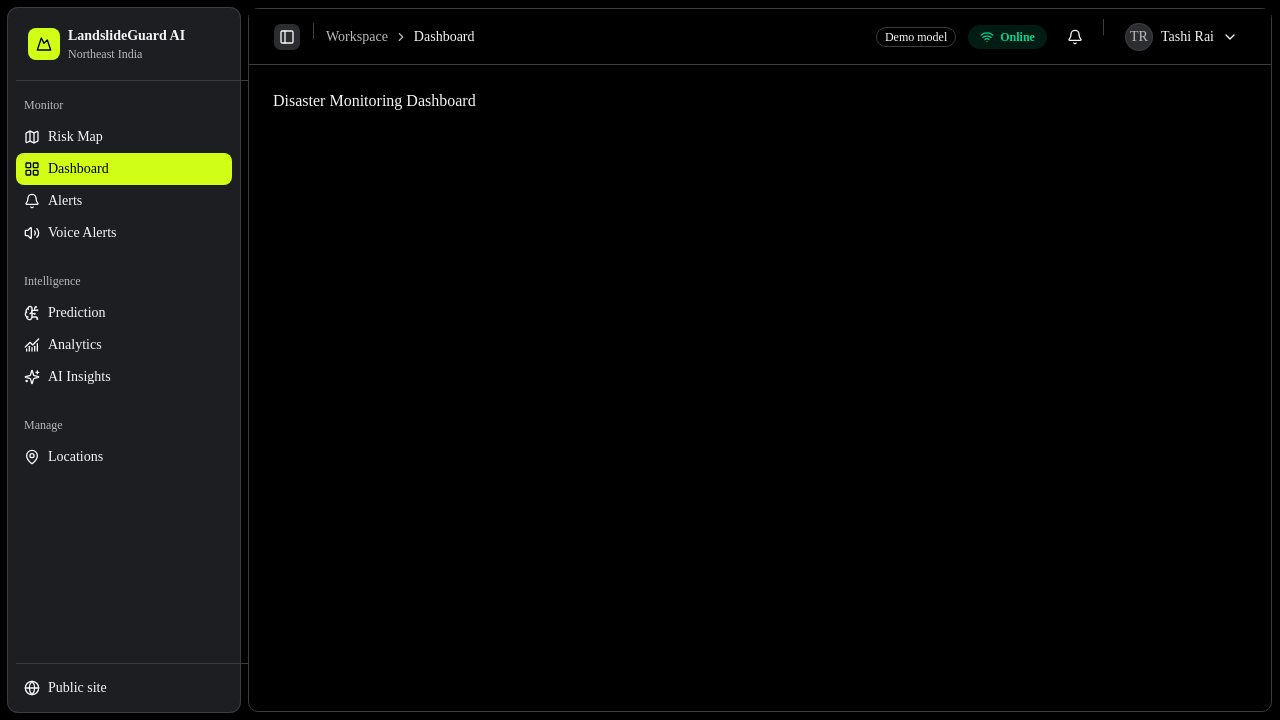
Test case: shared monitoring shell › collapses desktop navigation and keeps viewer permissions and active links
Click the button named "Collapse navigation" at (287,36), box left=273, top=22, right=301, bottom=50
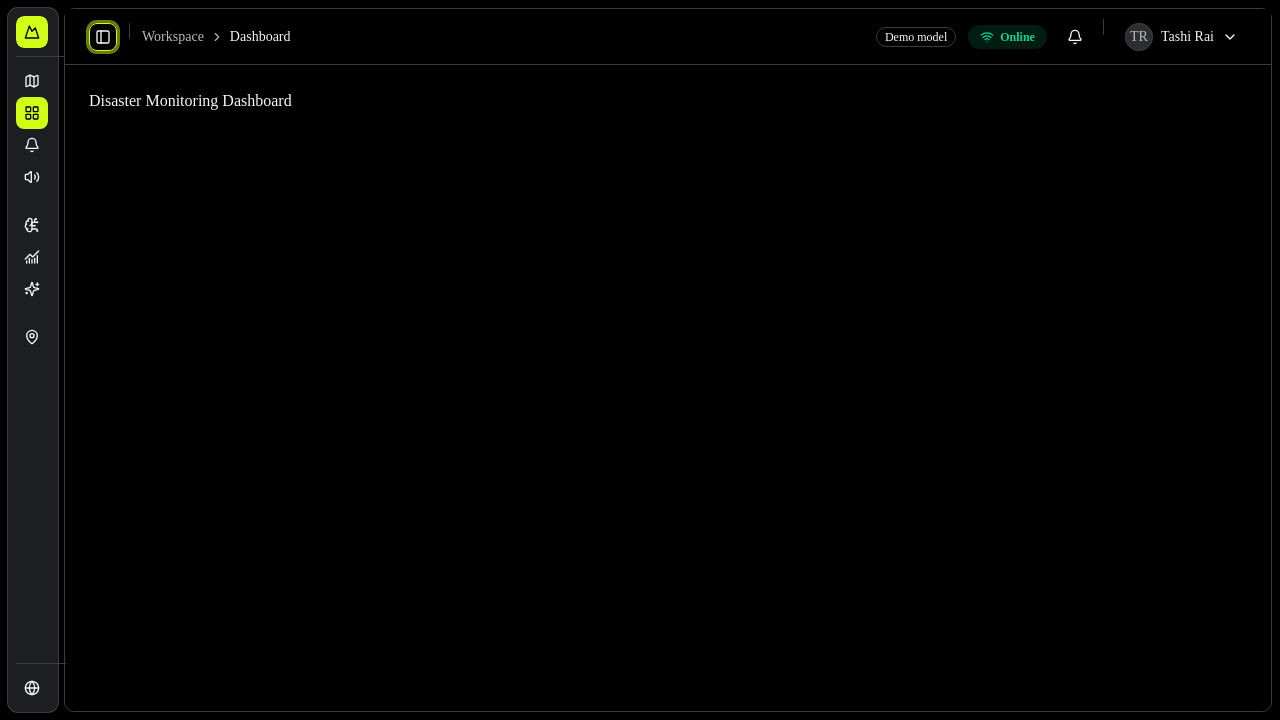
Result: the button named "Expand navigation" is collapsed
Click the button named "Expand navigation" at (103,36), box left=89, top=22, right=117, bottom=50
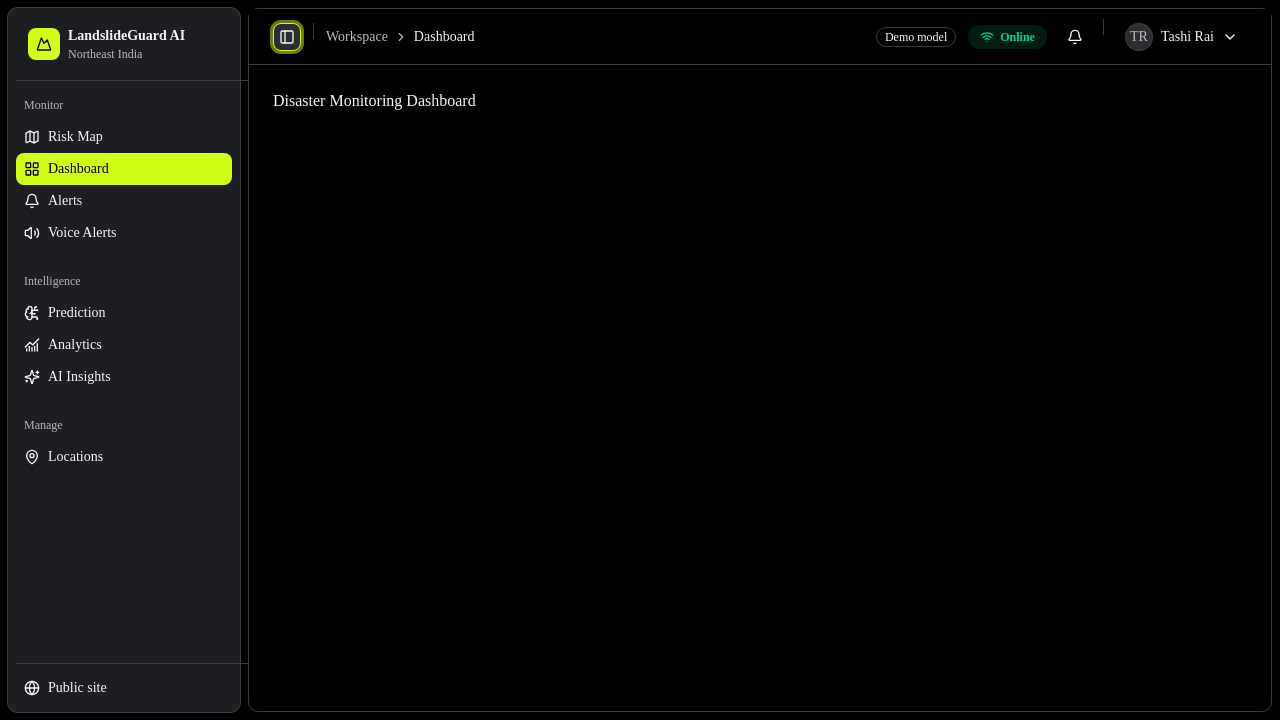
Click the link "Risk Map" at (63,137), box left=24, top=129, right=103, bottom=145
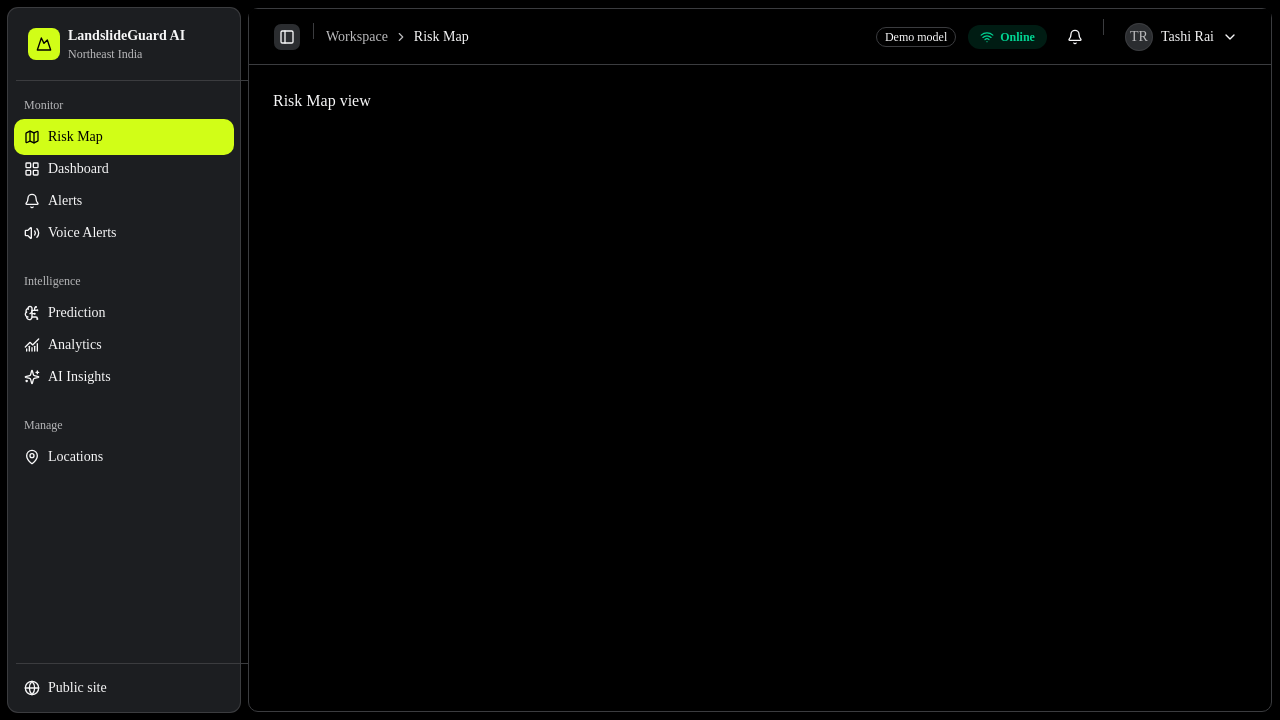
Result: the heading "Risk Map view" is shown at left=273, top=92, right=371, bottom=109
